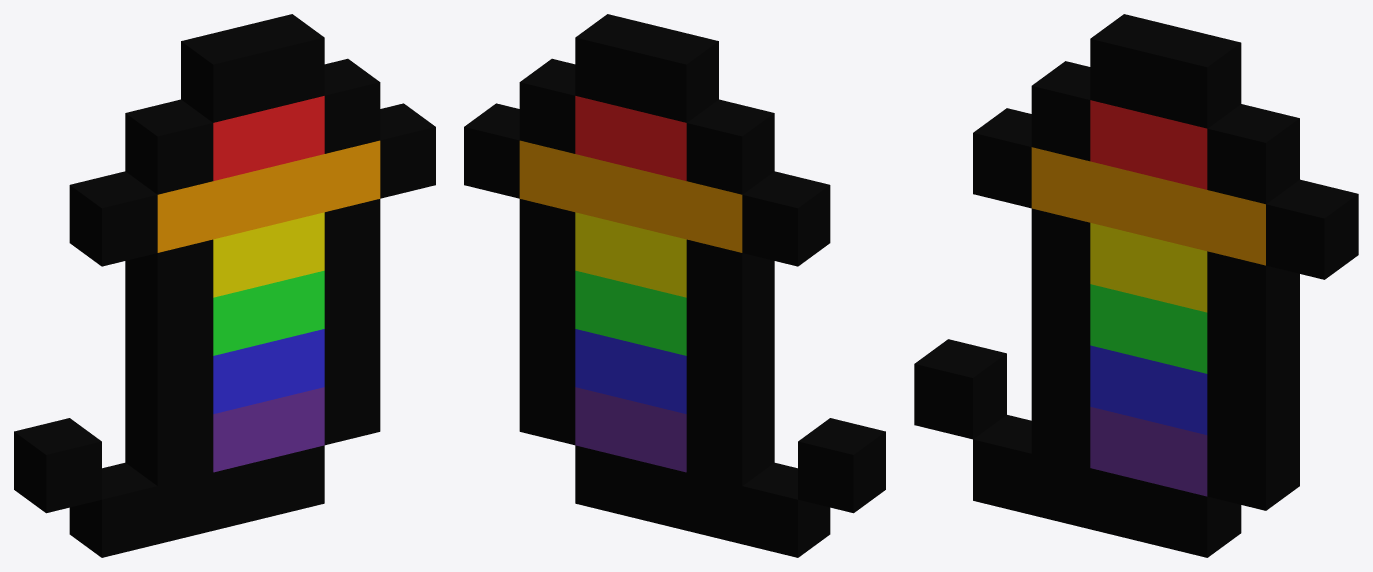
File: Rainbow Firecracker.glb
The picture shows the model from 3 angles, left to right: view 1: azimuth 30°, elevation 25°; view 2: azimuth 150°, elevation 25°; view 3: azimuth 330°, elevation 25°; orthographic projection. The views are drawn at different scales.
Parts seen in each view (by area): view 1: generated(Clone); view 2: generated(Clone); view 3: generated(Clone).
Boxes of the visible parts, left/top/right/bottom form: generated(Clone): left=14, top=14, right=435, bottom=557; generated(Clone): left=464, top=14, right=885, bottom=557; generated(Clone): left=914, top=14, right=1358, bottom=557.
Size of the model in its own units: 7 by 8 by 1.
Materials: 1 (1 with a texture image).
